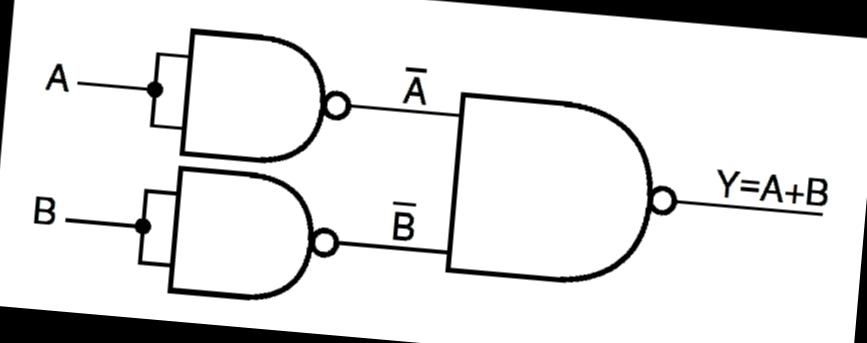nand: (430, 79, 692, 299), (161, 18, 367, 177), (148, 158, 350, 312)
